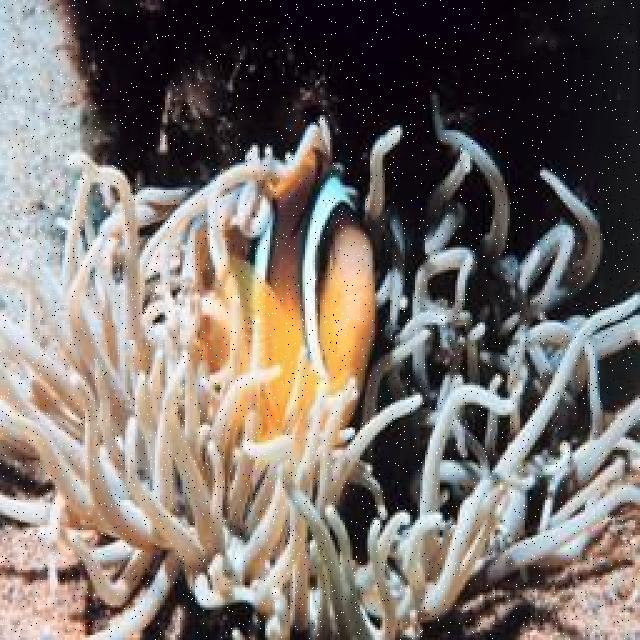fish: (180, 125, 378, 474)
reefs: (0, 100, 638, 638)
